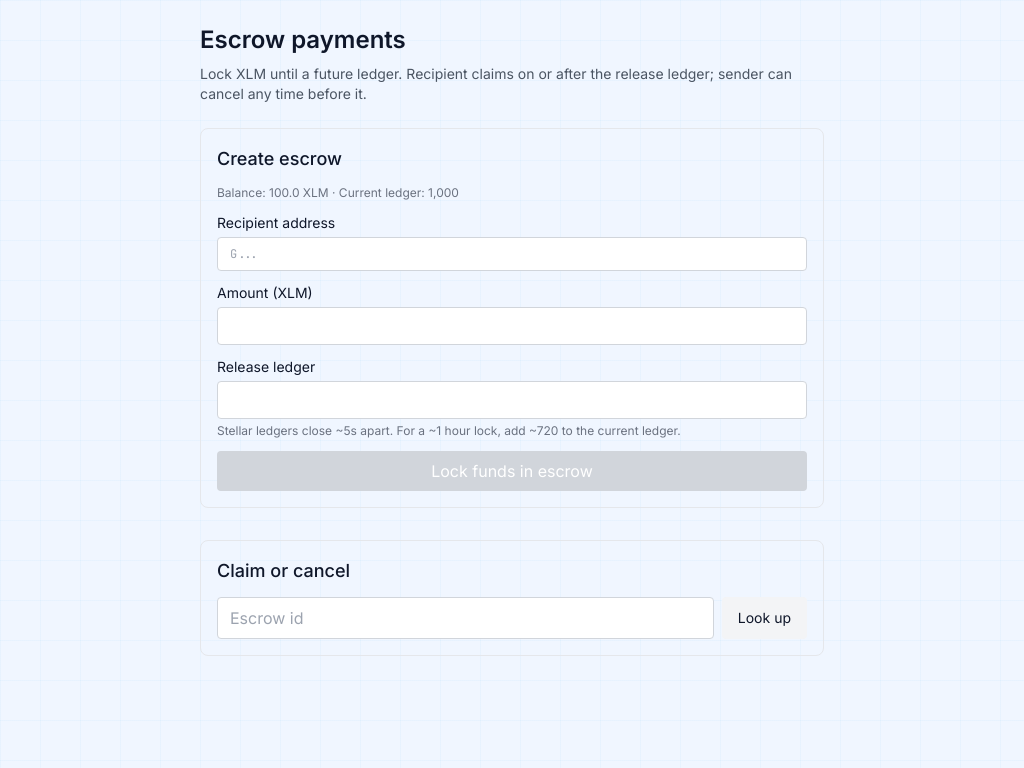
Test case: EscrowPage › validates self-transfer recipient
Type "GBRPYHIL2CI3WHZDTOOQFC6EB4RRJC3D5NZ2KMSUGSRNVO7ZFGIGSZ" into the field labelled "Recipient address" at (512, 254), box [217,237,807,271]
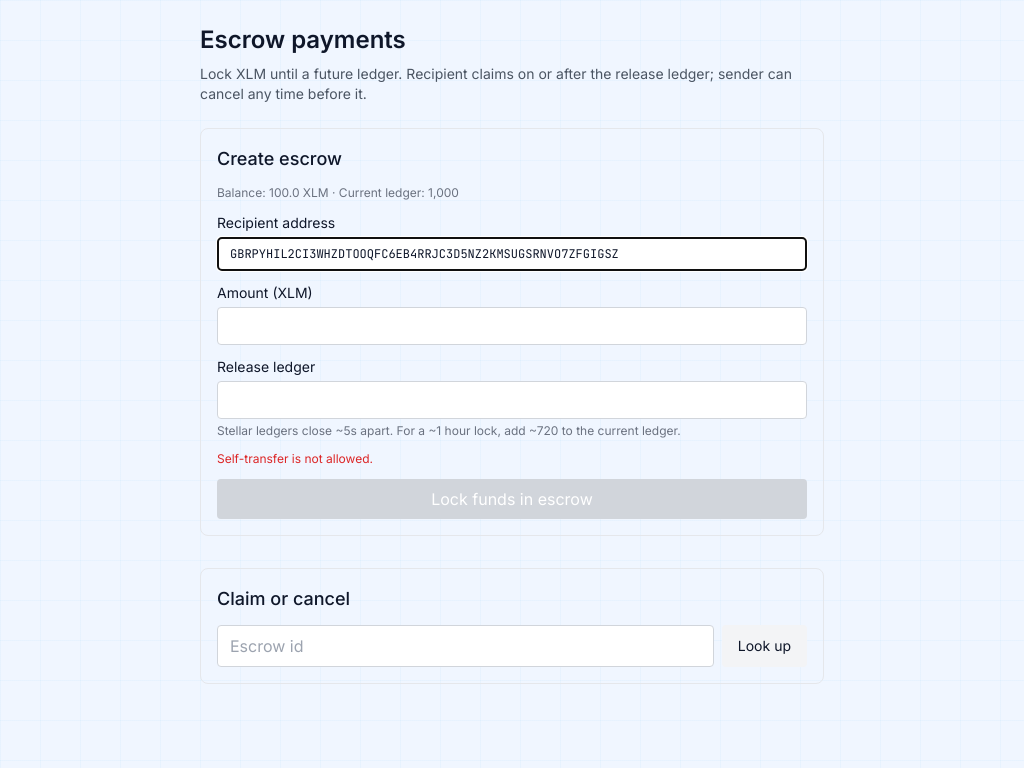
Expected: the button "Lock funds in escrow" is disabled, [217,479,807,519]
Expected: the text "Self-transfer is not allowed." is shown, [217,451,373,466]
